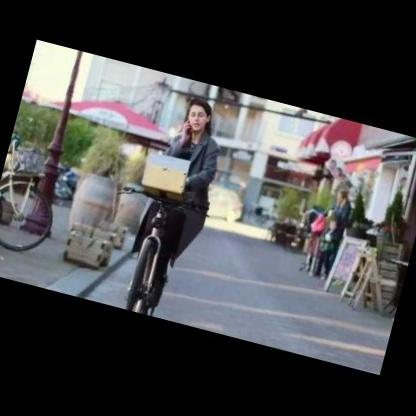Bicycle: (109, 173, 198, 310)
